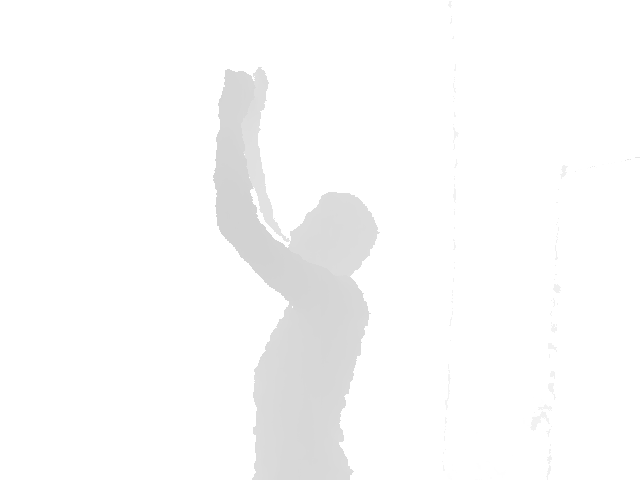hand: (217, 69, 256, 122), (243, 69, 270, 124)
head: (285, 190, 380, 276)
person: (212, 65, 381, 480)
